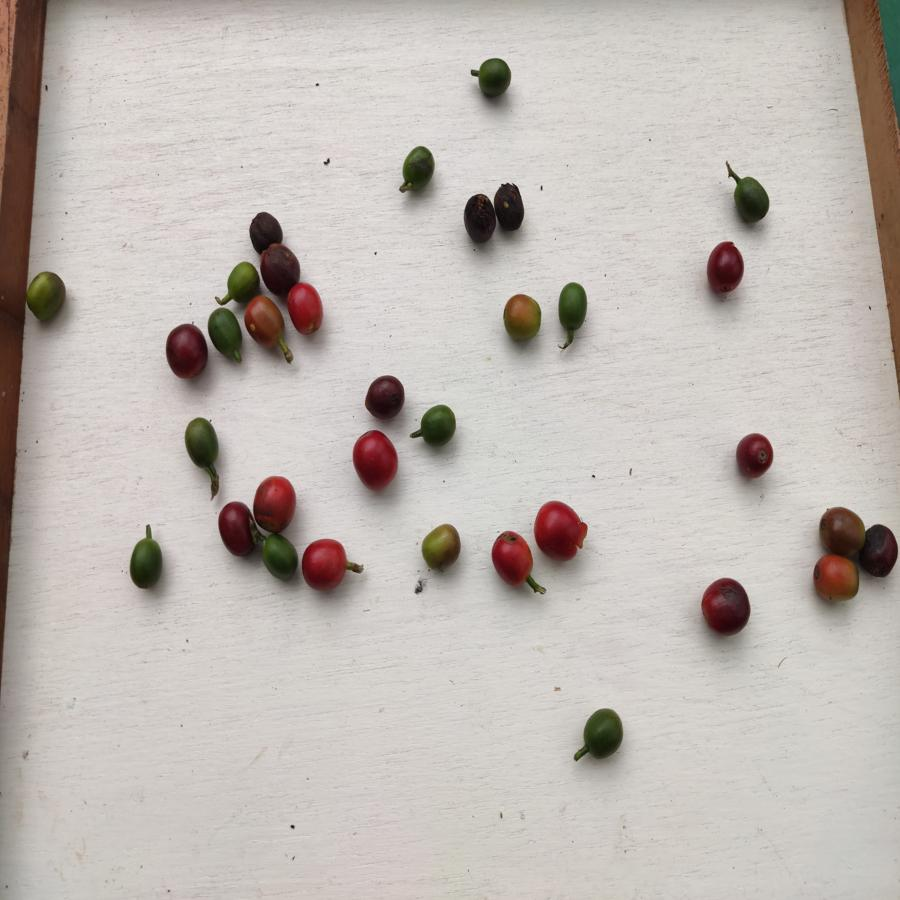Inmaduro: (581, 705, 628, 765), (24, 272, 74, 322), (181, 417, 226, 471), (126, 540, 171, 591), (727, 175, 774, 223), (259, 534, 300, 586), (419, 399, 459, 449), (399, 144, 436, 196), (207, 309, 246, 358), (555, 282, 590, 331), (477, 57, 513, 101), (223, 261, 259, 297)
Maduro: (533, 498, 590, 565), (346, 426, 404, 490), (251, 473, 300, 533), (301, 537, 349, 595), (489, 529, 536, 585), (288, 284, 331, 339)
Pinton: (243, 297, 292, 355), (417, 523, 469, 576), (498, 290, 544, 347), (813, 554, 861, 606)
Sobremaduro: (702, 574, 750, 641), (165, 325, 210, 381), (859, 517, 900, 577), (706, 239, 746, 299), (217, 501, 257, 560), (362, 371, 409, 421), (732, 429, 779, 479), (494, 181, 531, 233), (462, 194, 497, 243), (261, 243, 299, 287), (823, 507, 860, 551), (249, 211, 285, 245)
